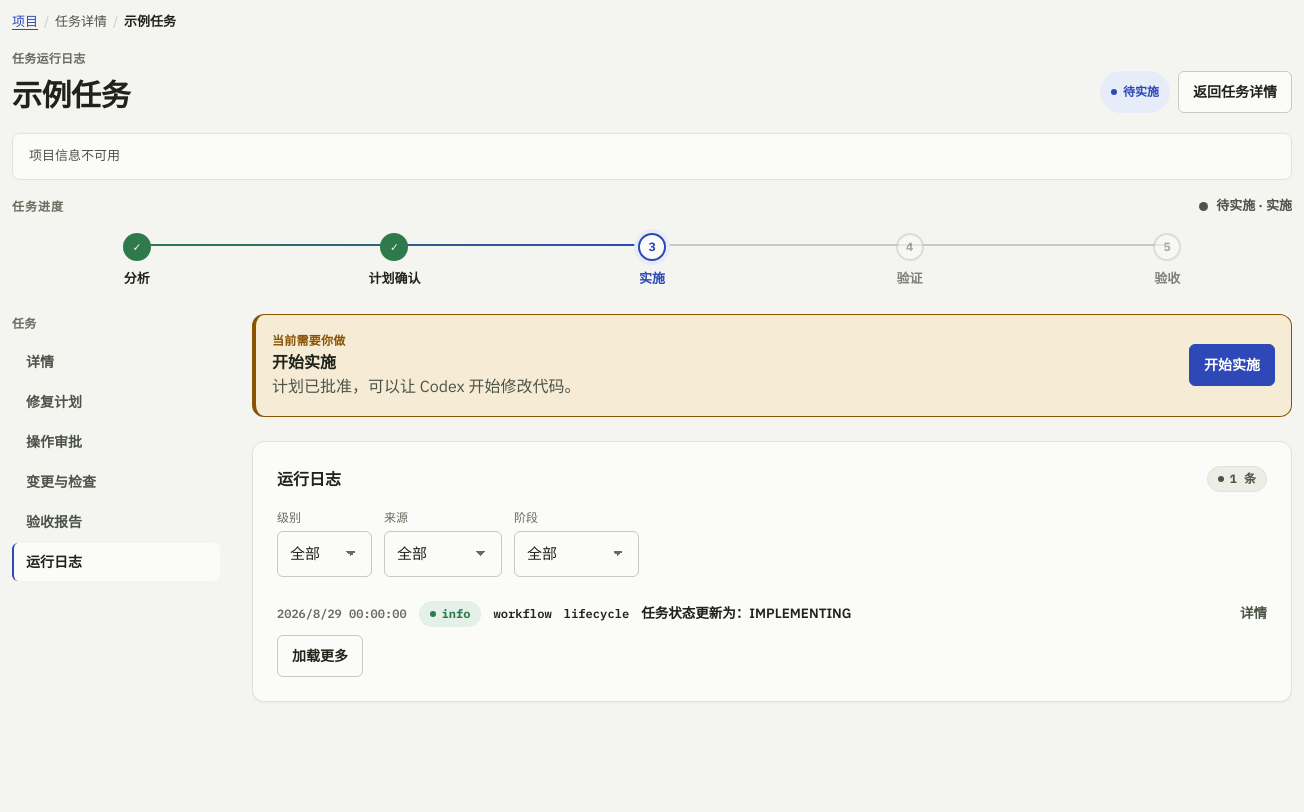
TaskLogsPage › loads more logs with the next cursor
Expected: the text "任务状态更新为：IMPLEMENTING" is shown, [641, 604, 852, 622]
Click the button "加载更多" at (320, 656), box [277, 635, 363, 677]
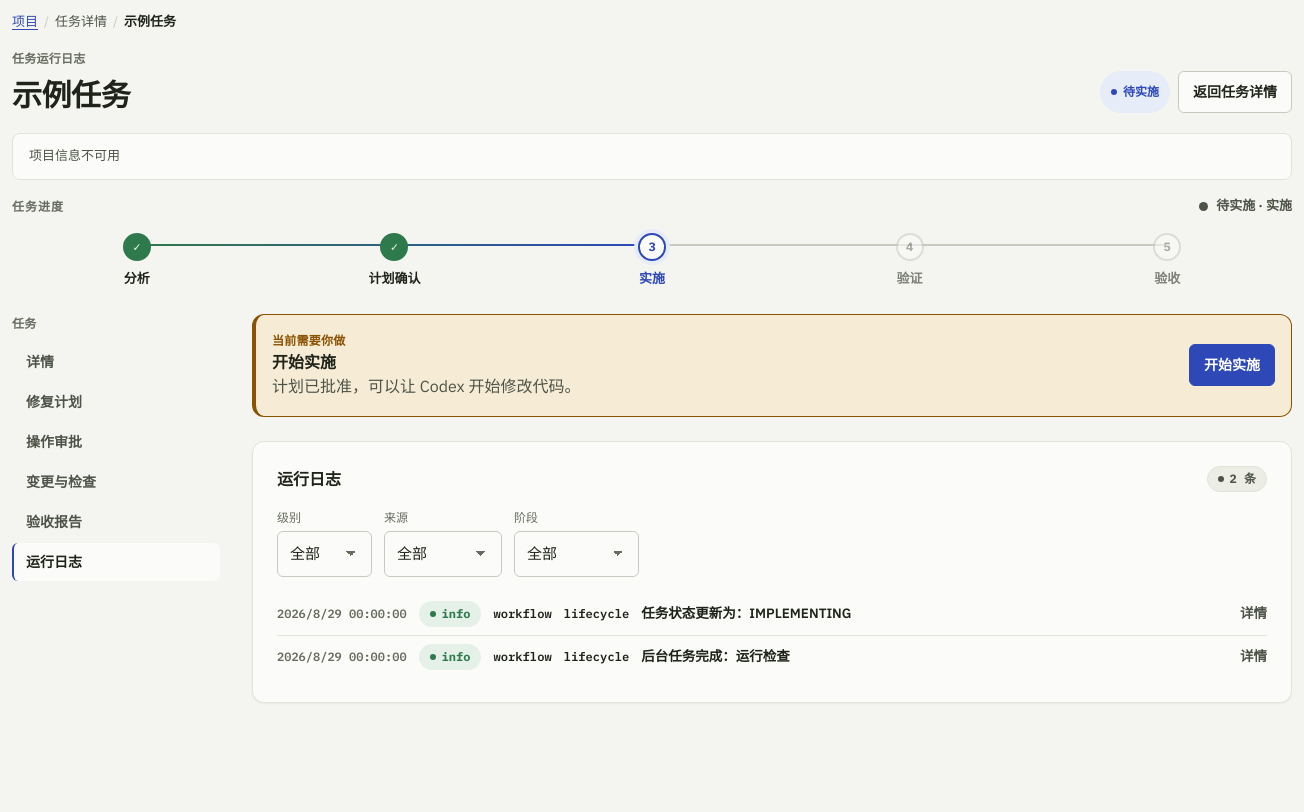
Now the text "后台任务完成：运行检查" is shown, box [641, 647, 790, 665]
